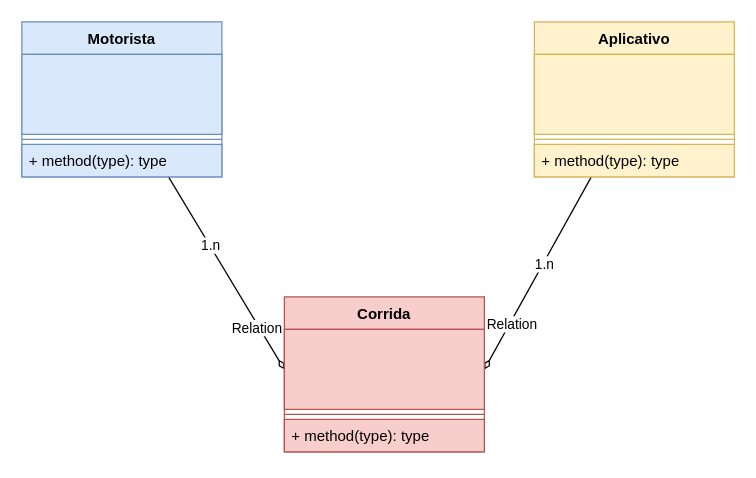
The diagram is 756 pixels wide and 478 high, and some of its shapes have lost their labels. Each missing label, with the centre of its shape:
- nome: string - cpf: string - telefone: string - veiculo: string: the point at 121,93
- nomeApp: string - versao: string - listaMotoristas: list - listaCorridas: list: the point at 633,93
- origem: string - distancia: string - valor: double - data_Hora: integer: the point at 383,368
